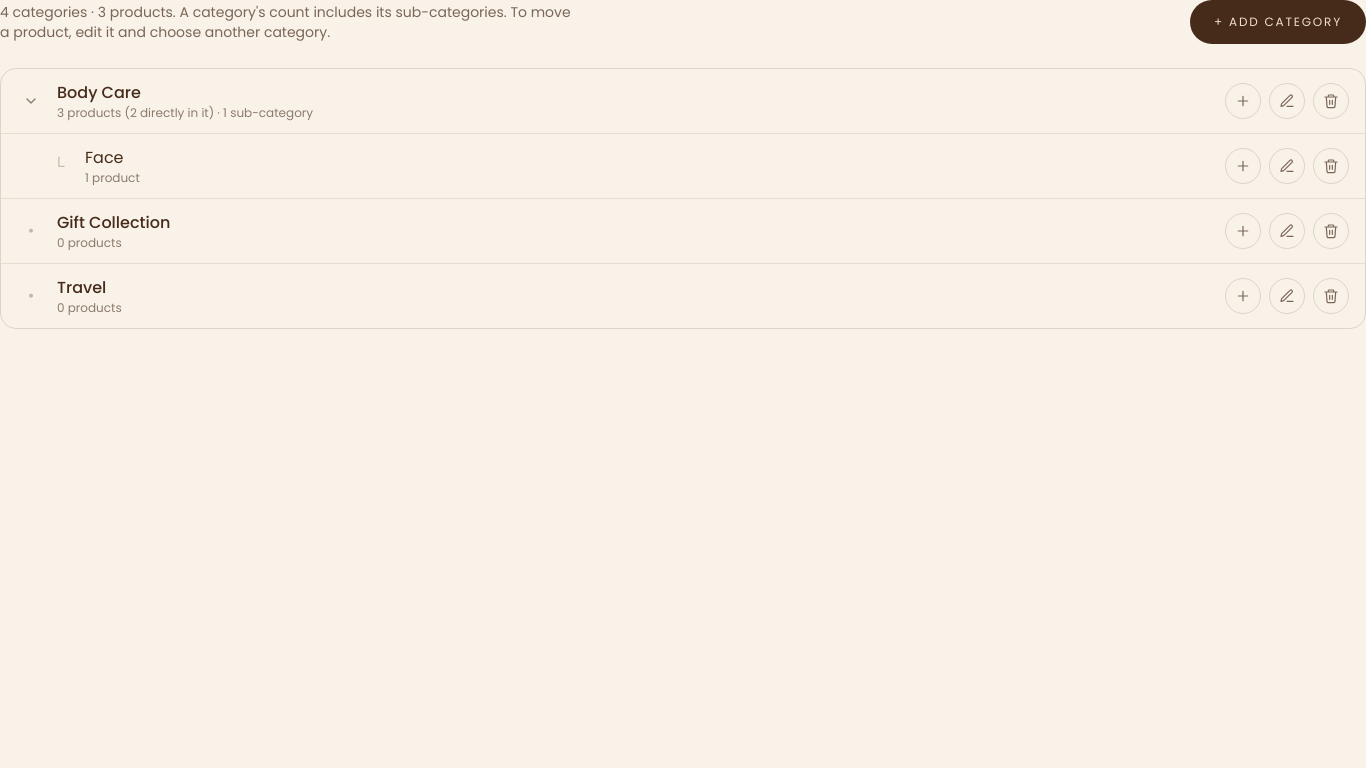
Test: CategoryManager: adding and editing › adding a sub-category puts it under the chosen category
Click the button named "Add a sub-category to Body Care": [1243, 101] box x1=1225 y1=83 x2=1261 y2=119
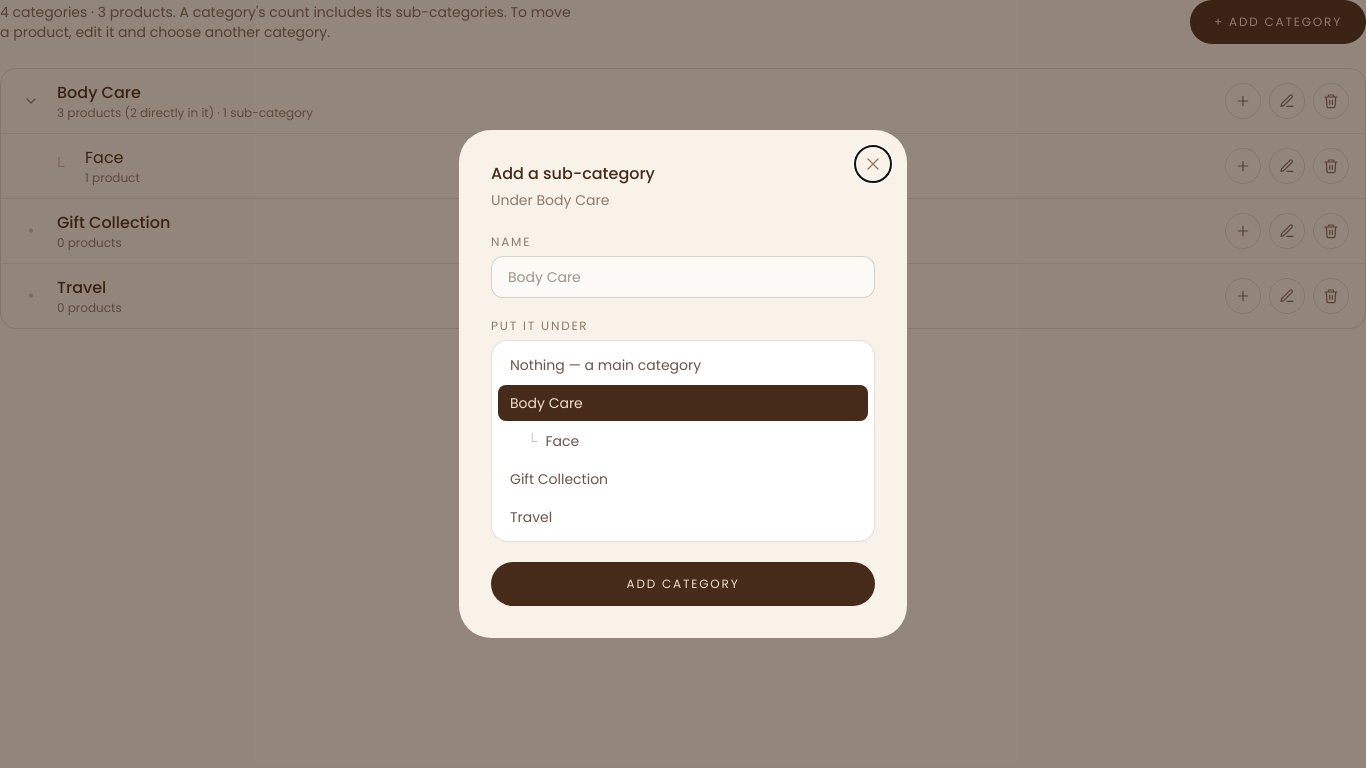
expect the dialog shows "Under Body Care": met, box x1=491 y1=190 x2=609 y2=210
expect the radio button labelled "Body Care" is checked: met, box x1=498 y1=385 x2=868 y2=421
In the field labelled "Name": [683, 277] box x1=491 y1=256 x2=875 y2=298, type "Lips"
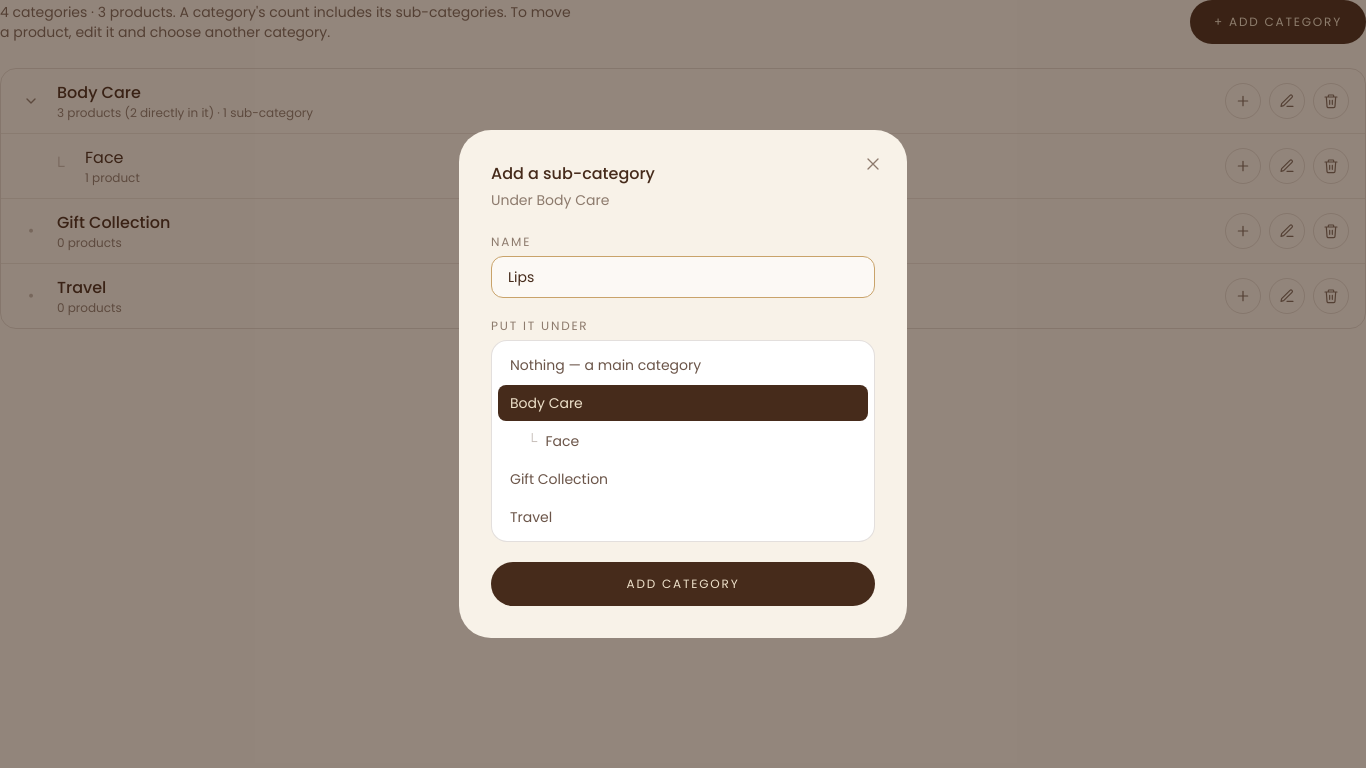
Click the button "Add category": [683, 584] box x1=491 y1=562 x2=875 y2=606
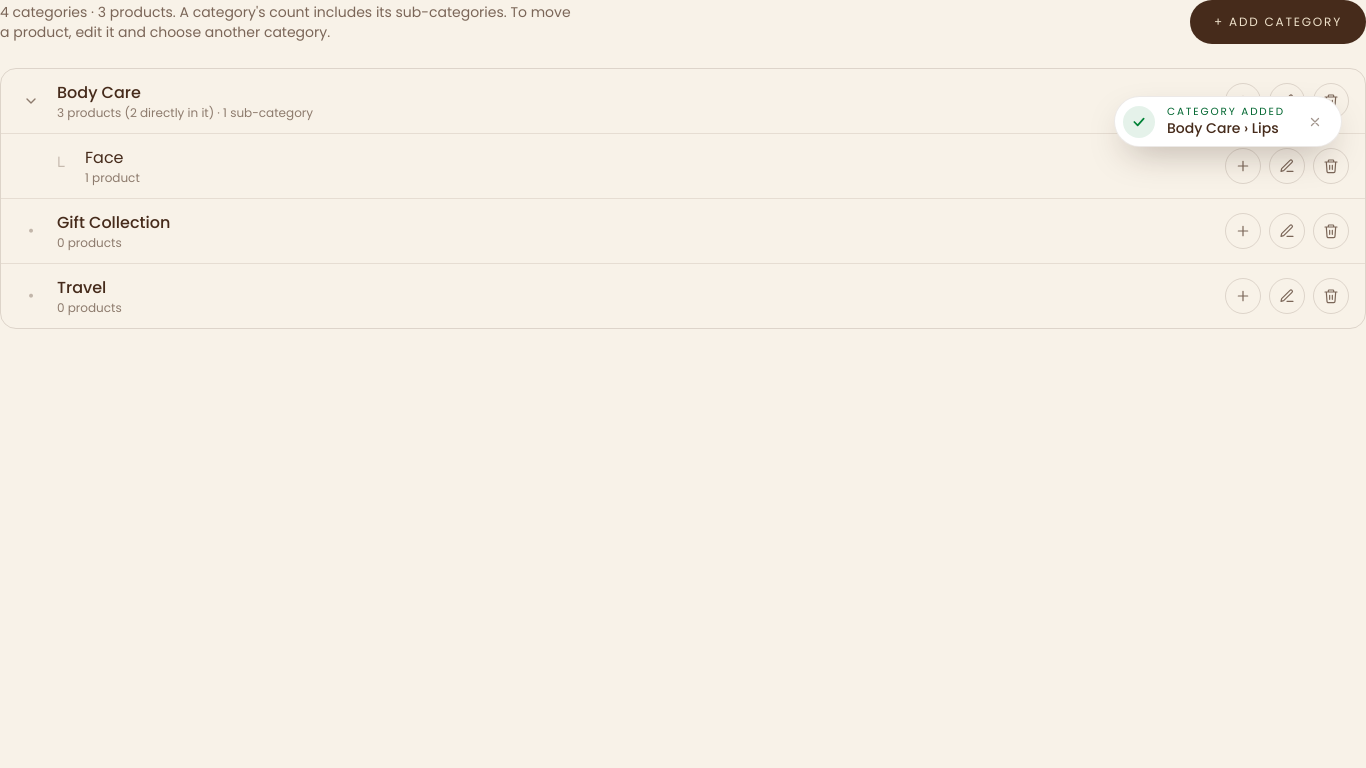
expect the message shows "Body Care › Lips": met, box x1=1167 y1=118 x2=1279 y2=138
